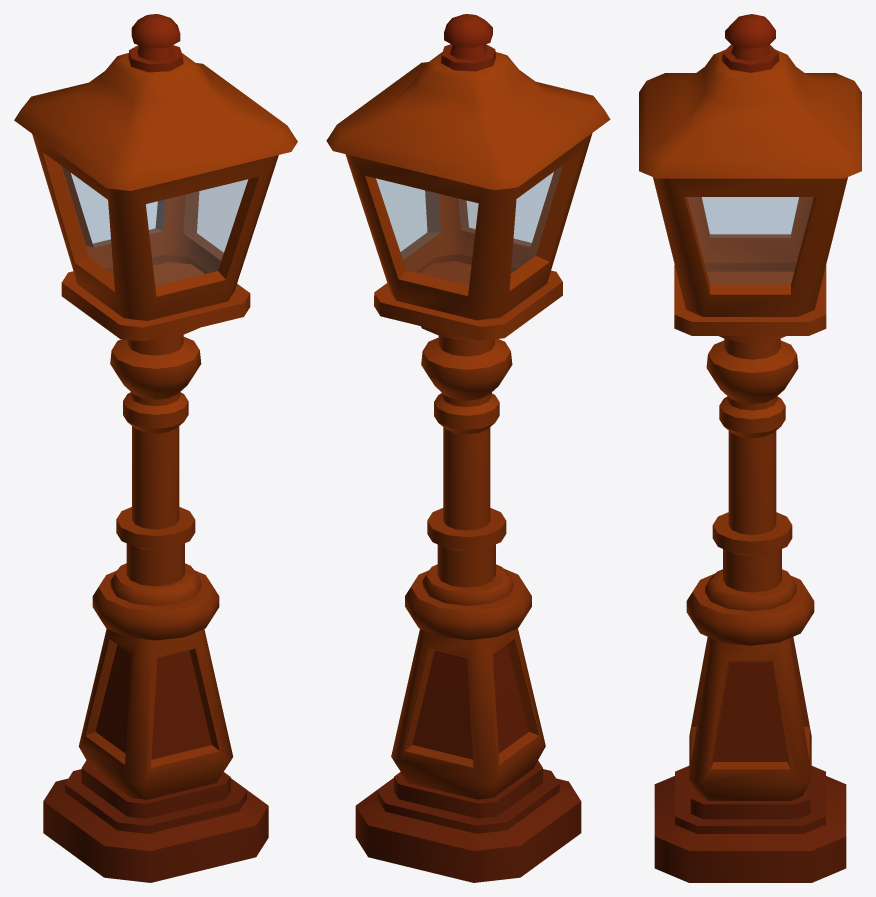
The model's file is Street_Light_01.fbx.
The picture shows the model from 3 angles, left to right: view 1: azimuth 30°, elevation 25°; view 2: azimuth 150°, elevation 25°; view 3: azimuth 270°, elevation 25°; orthographic projection.
Visible parts, largest first — view 1: Street_Light_01; view 2: Street_Light_01; view 3: Street_Light_01.
Part boxes in pixels (left/top/right/bottom): Street_Light_01: left=14, top=14, right=297, bottom=882; Street_Light_01: left=326, top=14, right=610, bottom=882; Street_Light_01: left=639, top=14, right=861, bottom=882.
Size of the model in its own units: 80.91 by 331 by 80.91.
